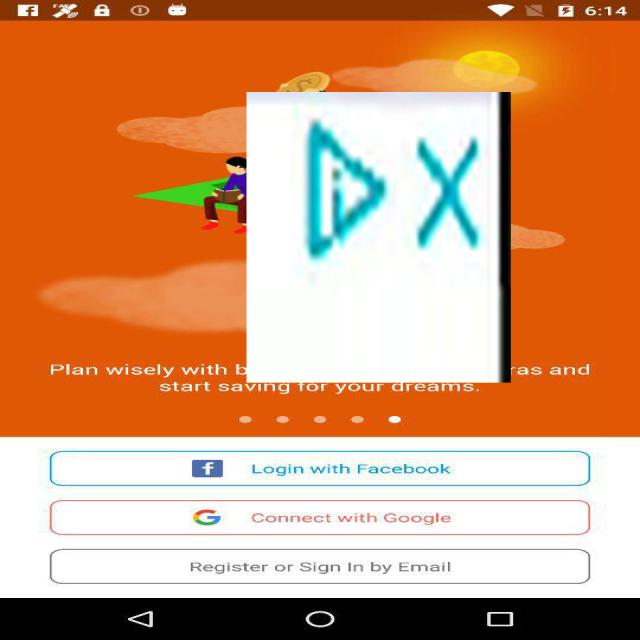sneaking: (246, 92, 511, 383)
